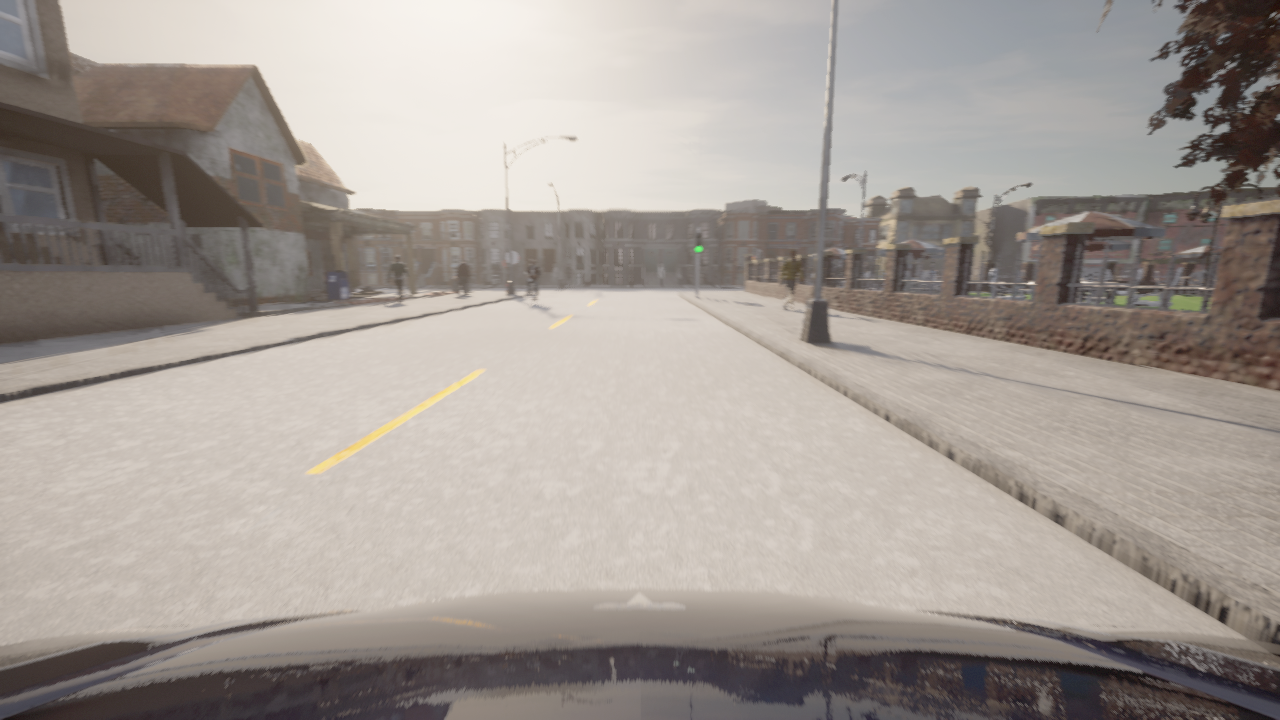cyclist: (0, 588, 1279, 719), (528, 279, 537, 305)
pedestrian: (781, 249, 804, 311), (388, 255, 409, 303), (456, 260, 470, 294), (454, 275, 461, 291)
